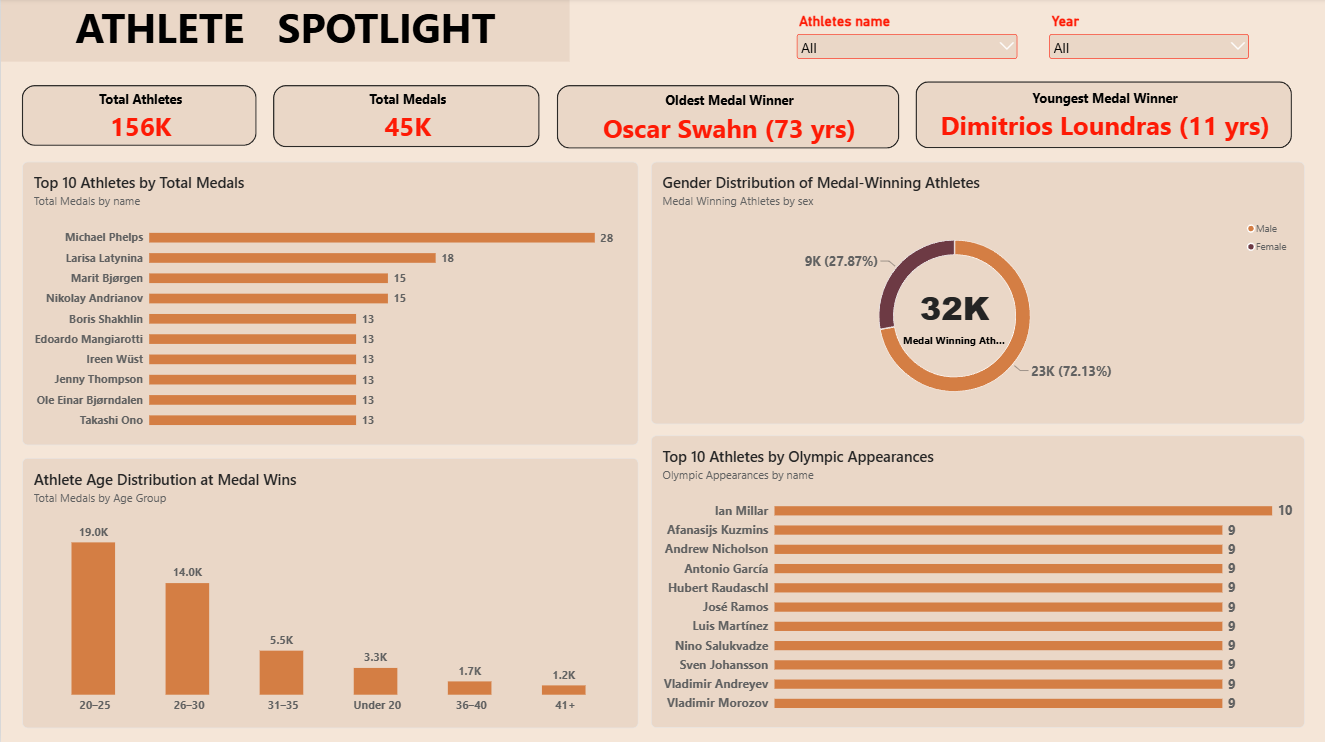

The dashboard page shown, as its layout file describes it:
{"tool":"powerbi","page":{"name":"Athlete Spotlight 3","canvas":[1920,1080],"ordinal":2},"visuals":[{"type":"columnChart","title":"Athlete Age Distribution at Medal Wins","fields":{"Category":["Olympic_Athlete_Event_Results.Age Group"],"Y":["measure table.Total Medals"]},"box":[30.8,666,892.2,390.9],"z":0},{"type":"barChart","title":"Top 10 Athletes by Total Medals","fields":{"Y":["measure table.Total Medals"],"Category":["Olympic_Athlete_Bio.name"]},"box":[30.8,237.1,892.2,410.8],"z":1000},{"type":"barChart","title":"Top 10 Athletes by Olympic Appearances","fields":{"Category":["Olympic_Athlete_Bio.name"],"Y":["measure table.Olympic Appearances"]},"box":[941,633.4,946.5,423.5],"z":2000},{"type":"donutChart","title":"Gender Distribution of Medal-Winning Athletes","fields":{"Category":["Olympic_Athlete_Bio.sex"],"Y":["measure table.Medal Winning Athletes"]},"box":[941,237.1,946.5,380],"z":3000},{"type":"cardVisual","fields":{"Data":["measure table.Total Athletes"]},"box":[18.1,114,364,112],"z":4000},{"type":"cardVisual","fields":{"Data":["measure table.Total Medals"]},"box":[381.8,114,410,114],"z":5000},{"type":"cardVisual","fields":{"Data":["measure table.Oldest Medal Winner"]},"box":[792.6,114,520,116],"z":6000},{"type":"cardVisual","fields":{"Data":["measure table.Youngest Medal Winner"]},"box":[1312,108.6,569.7,121.7],"z":7000},{"type":"slicer","fields":{"Values":["Olympic_Athlete_Bio.name"]},"box":[1147.3,21.7,329.4,70.6],"z":8000},{"type":"slicer","fields":{"Values":["Calendar.Year"]},"box":[1512.9,21.7,298.6,70.6],"z":9000},{"type":"textbox","box":[0,1.8,823.4,90.5],"z":10000}]}

Visuals, with their boxes in screenshot pixels (x1, y1, x2, y2), scaled from the page's 1920x1080 canvas onto the 1325x742 screenshot:
"Athlete Age Distribution at Medal Wins" columnChart: crop(21, 458, 637, 726)
"Top 10 Athletes by Total Medals" barChart: crop(21, 163, 637, 445)
"Top 10 Athletes by Olympic Appearances" barChart: crop(649, 435, 1303, 726)
"Gender Distribution of Medal-Winning Athletes" donutChart: crop(649, 163, 1303, 424)
cardVisual - measure table.Total Athletes: crop(12, 78, 264, 155)
cardVisual - measure table.Total Medals: crop(263, 78, 546, 157)
cardVisual - measure table.Oldest Medal Winner: crop(547, 78, 906, 158)
cardVisual - measure table.Youngest Medal Winner: crop(905, 75, 1299, 158)
slicer - Olympic_Athlete_Bio.name: crop(792, 15, 1019, 63)
slicer - Calendar.Year: crop(1044, 15, 1250, 63)
textbox: crop(0, 1, 568, 63)
